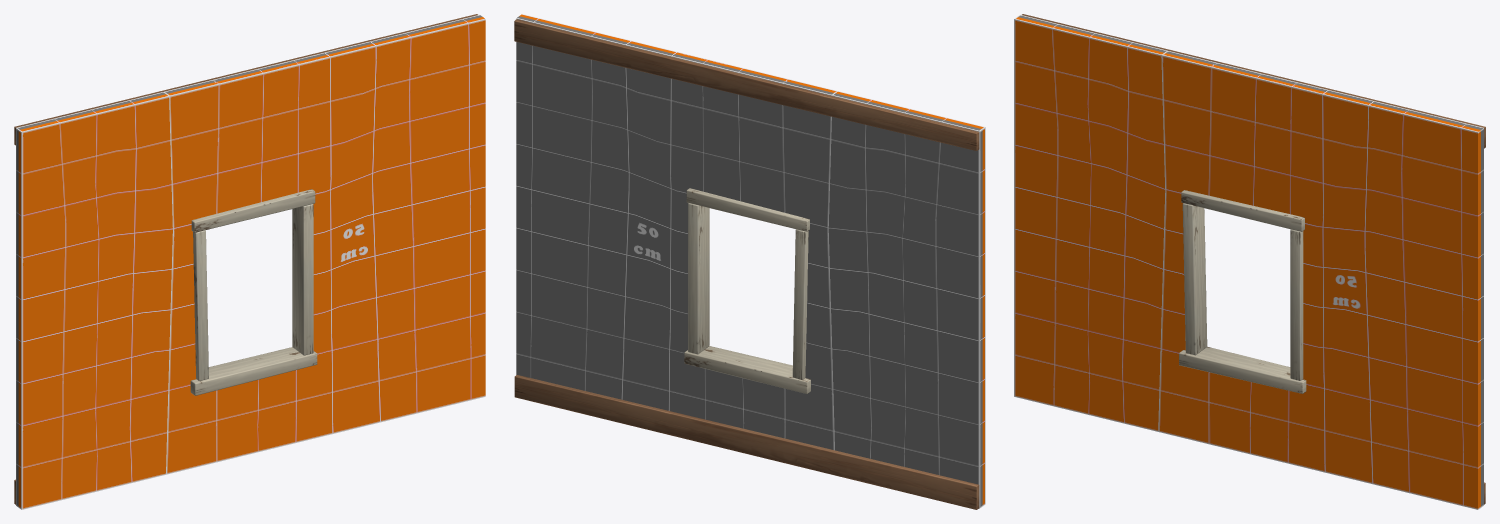
The model's file is Hangar01WW_1.FBX.
3 views of the same model, side by side, from view 1: azimuth 30°, elevation 25°; view 2: azimuth 150°, elevation 25°; view 3: azimuth 330°, elevation 25° (orthographic).
Visible parts, largest first — view 1: Hangar01WW_1; view 2: Hangar01WW_1; view 3: Hangar01WW_1.
Boxes of the visible parts, x1,y1,x2,y2 form: Hangar01WW_1: [14, 14, 485, 509]; Hangar01WW_1: [514, 14, 985, 509]; Hangar01WW_1: [1014, 14, 1485, 509].
Size of what is drawn, in the model's own units: 4.5 by 3.5 by 0.2348.
